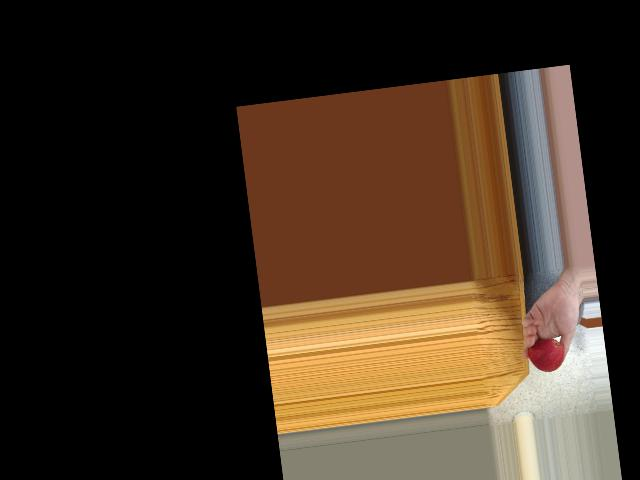apple: (528, 336, 566, 375)
